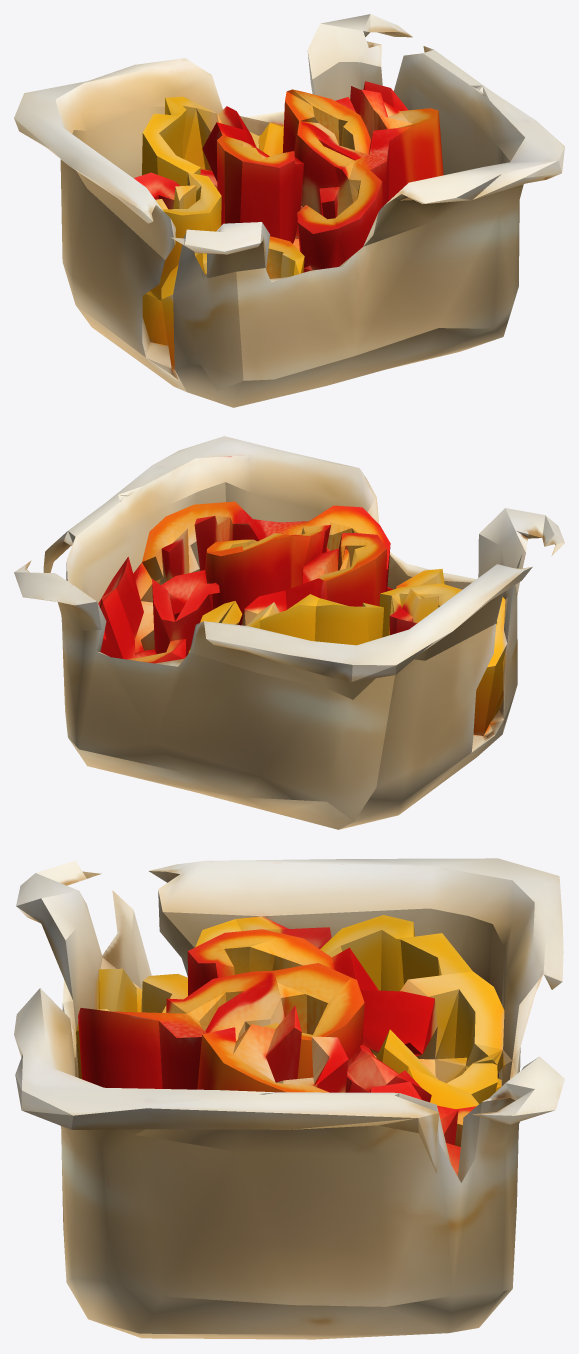
Rendered from Peppers_v1.glb.
3 views of the same model, one above another, from view 1: azimuth 30°, elevation 25°; view 2: azimuth 150°, elevation 25°; view 3: azimuth 270°, elevation 25° (orthographic). The views are drawn at different scales.
Parts seen in each view (by area): view 1: geometry_0; view 2: geometry_0; view 3: geometry_0.
Part boxes in pixels (x1=…): geometry_0: x1=14, y1=14, x2=564, y2=407; geometry_0: x1=14, y1=436, x2=564, y2=829; geometry_0: x1=14, y1=858, x2=564, y2=1339.
Size of the model in its own units: 0.15 by 0.08 by 0.14.
1 material, 1 textured.
